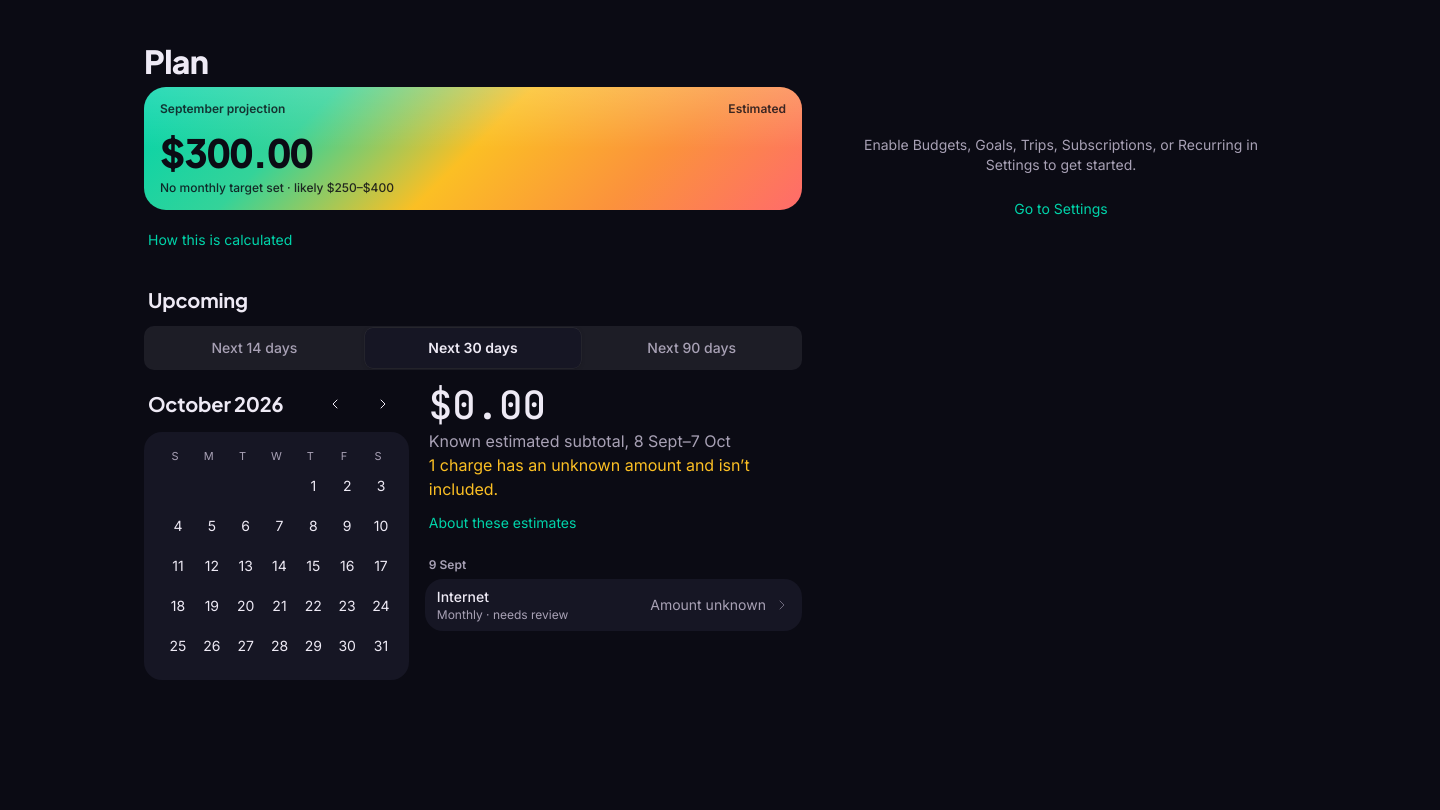
Test: projection card shows the projected total, its historical range, and the calculation notes
Expected: the text "No monthly target set · likely $250–$400" is shown, [160, 180, 394, 195]
Click the heading "How this is calculated": (220, 239) [148, 231, 292, 248]
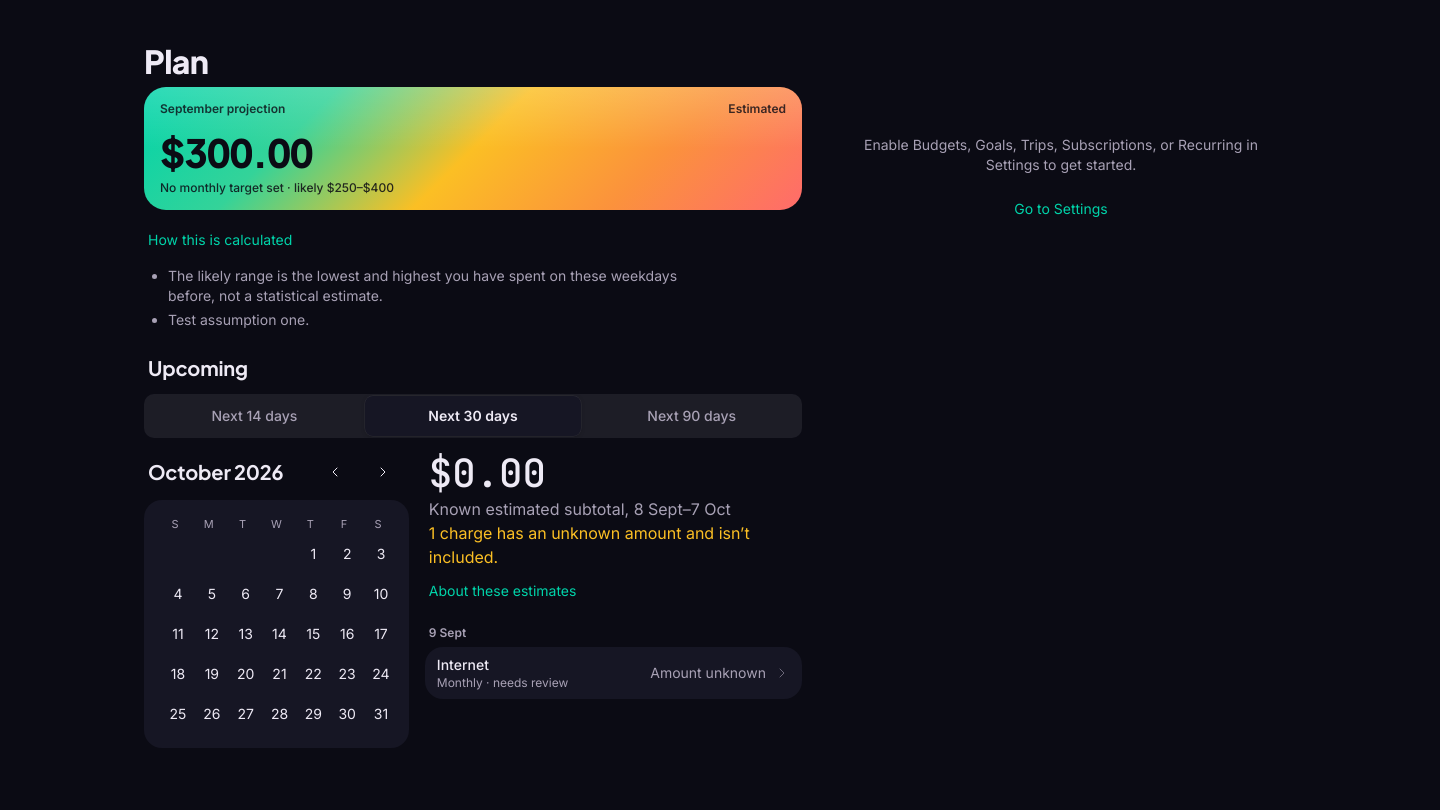
Now the list item "Test assumption one." is shown, box [168, 311, 309, 328]
